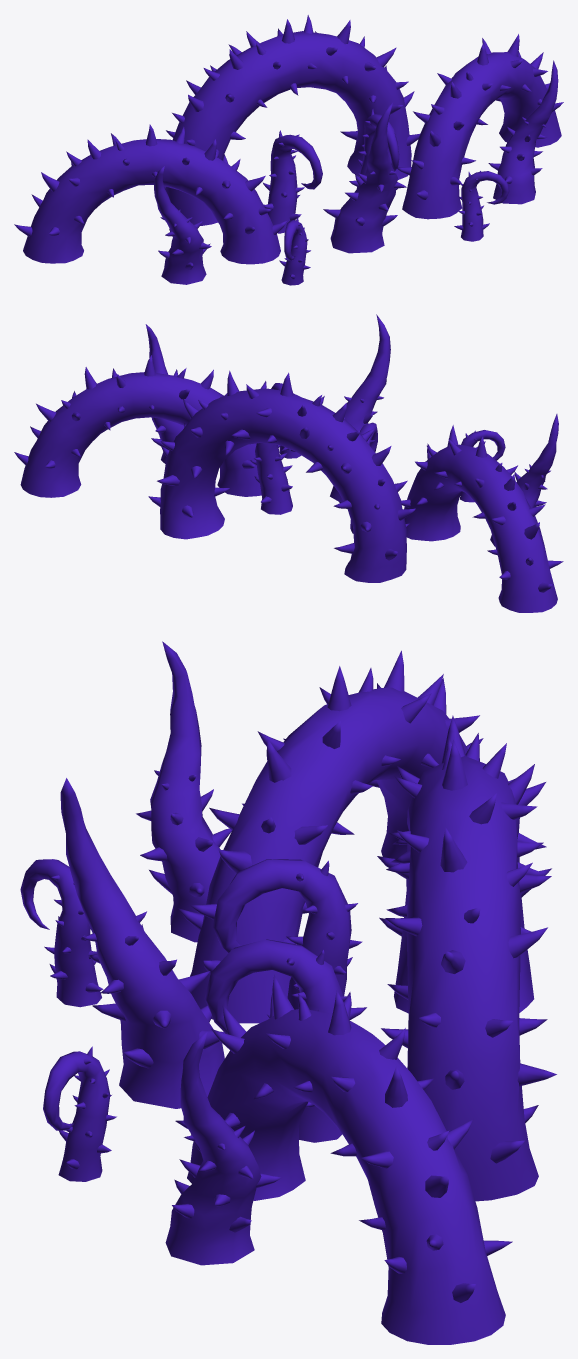
File: vine3.FBX
3 renders of one model, top to bottom at view 1: azimuth 30°, elevation 25°; view 2: azimuth 150°, elevation 25°; view 3: azimuth 270°, elevation 25°, orthographic. The views are drawn at different scales.
Visible parts, largest first — view 1: 000-0-0; view 2: 000-0-0; view 3: 000-0-0.
Part boxes in pixels (x1,y1,x2,y2): 000-0-0: (14, 15, 563, 285); 000-0-0: (14, 314, 563, 612); 000-0-0: (20, 641, 556, 1344).
Size of the model in its own units: 35.98 by 11.04 by 15.55.
